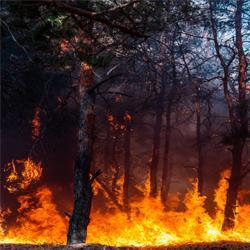fire: (152, 225, 172, 246), (117, 234, 147, 248), (207, 222, 226, 244)
